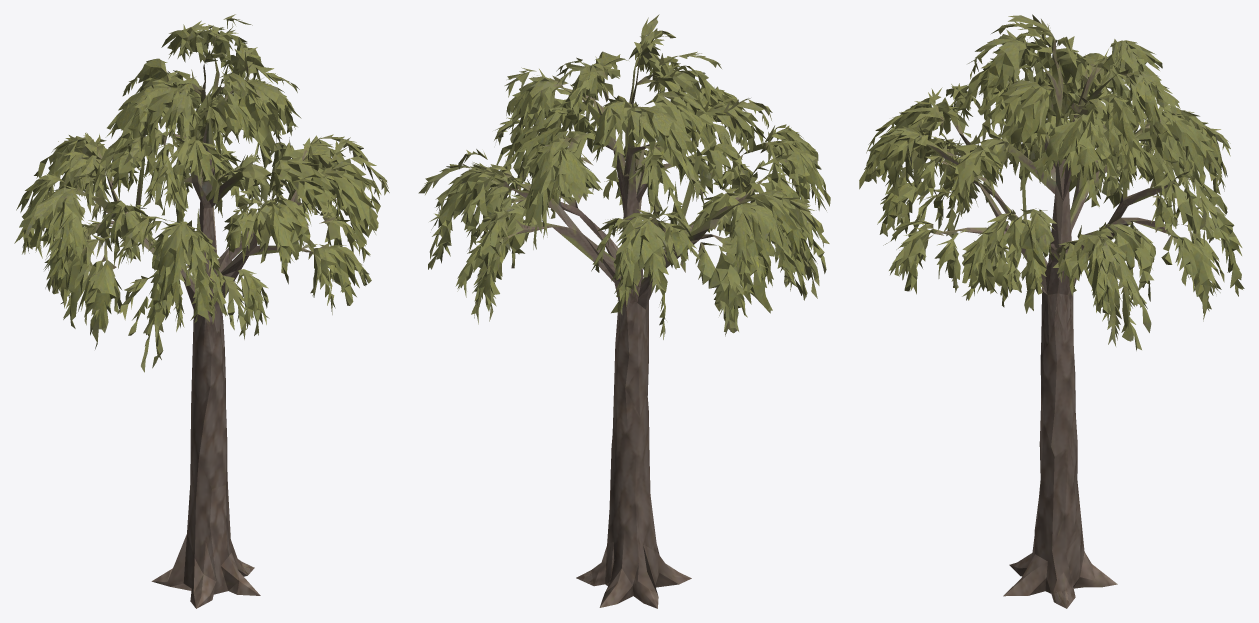
Rendered from summer-willow-near-2k-v1.glb.
3 renders of one model, left to right at view 1: azimuth 30°, elevation 25°; view 2: azimuth 150°, elevation 25°; view 3: azimuth 270°, elevation 25°, orthographic. The views are drawn at different scales.
Parts seen in each view (by area): view 1: SummerWillow_LOD0; view 2: SummerWillow_LOD0; view 3: SummerWillow_LOD0.
Part boxes in pixels (x1=…): SummerWillow_LOD0: x1=14, y1=14, x2=389, y2=608; SummerWillow_LOD0: x1=418, y1=14, x2=830, y2=608; SummerWillow_LOD0: x1=859, y1=14, x2=1244, y2=608.
Size of the model in its own units: 3.26 by 4.53 by 2.8.
1 material, 1 textured.
